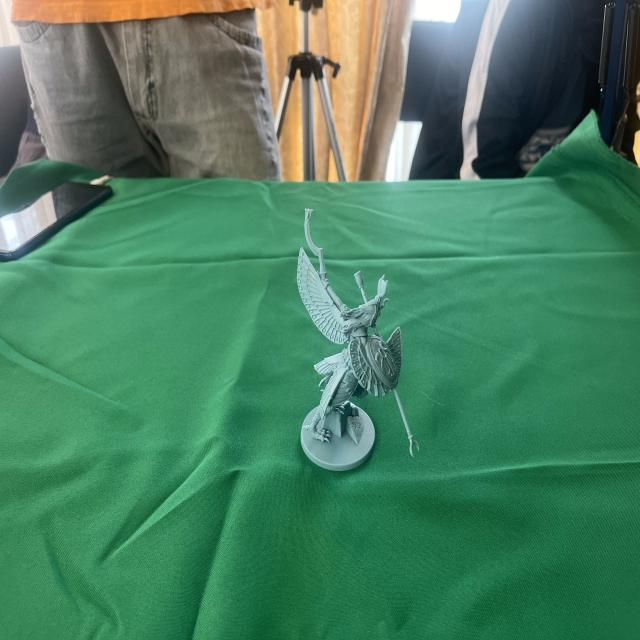isis: (276, 194, 430, 502)
